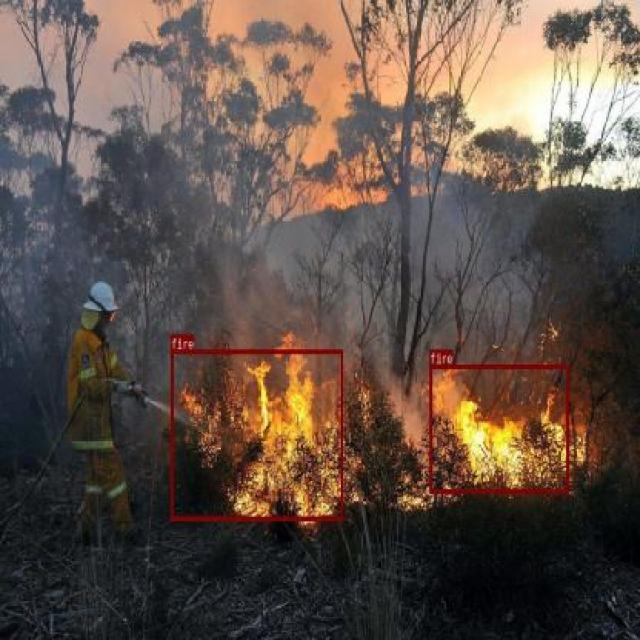fire: (170, 349, 342, 520), (429, 364, 568, 492)
